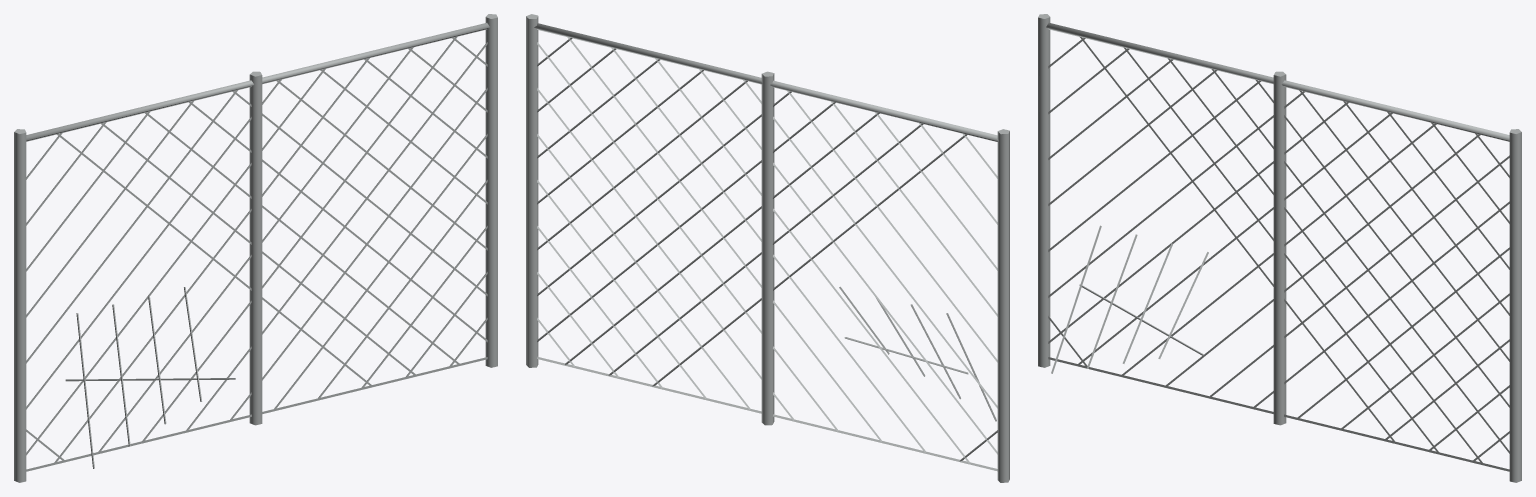
The model's file is chainlink_torn.glb.
3 views of the same model, side by side, from view 1: azimuth 30°, elevation 25°; view 2: azimuth 150°, elevation 25°; view 3: azimuth 330°, elevation 25° (orthographic).
Visible parts, largest first — view 1: chainlink_torn; view 2: chainlink_torn; view 3: chainlink_torn.
Part boxes in pixels (left/top/right/bottom): chainlink_torn: left=14, top=14, right=497, bottom=482; chainlink_torn: left=526, top=14, right=1009, bottom=482; chainlink_torn: left=1038, top=14, right=1521, bottom=482.
Bounding box in the file's own units: 2.97 × 2.05 × 0.3895.
1 material, 1 textured.
